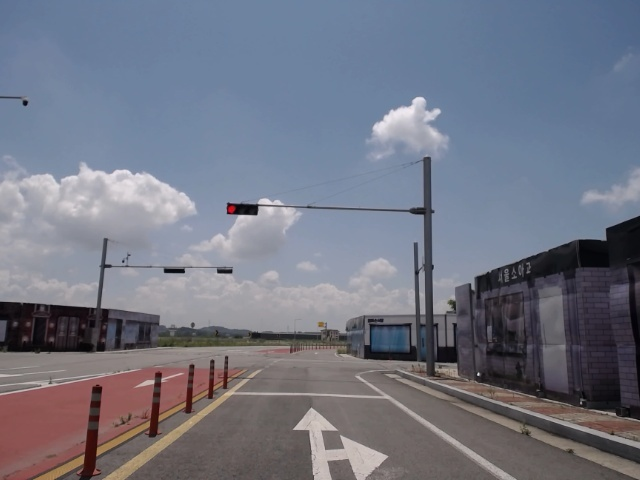red_3: (226, 201, 258, 215)
